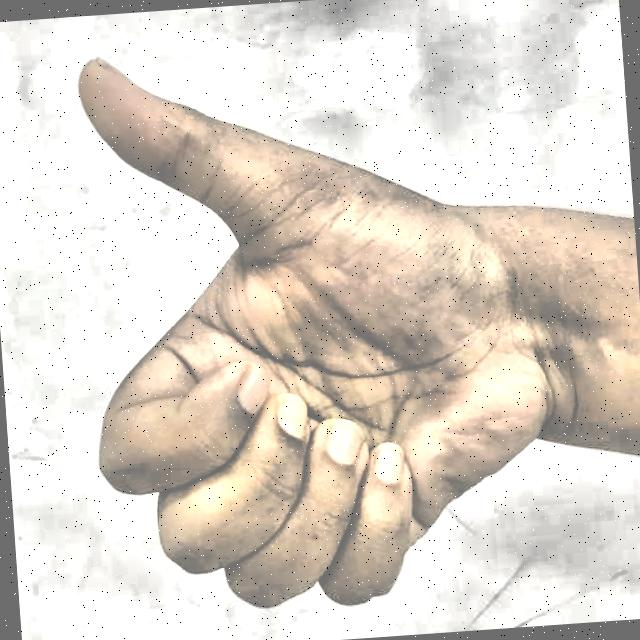Do: (23, 11, 574, 640)
